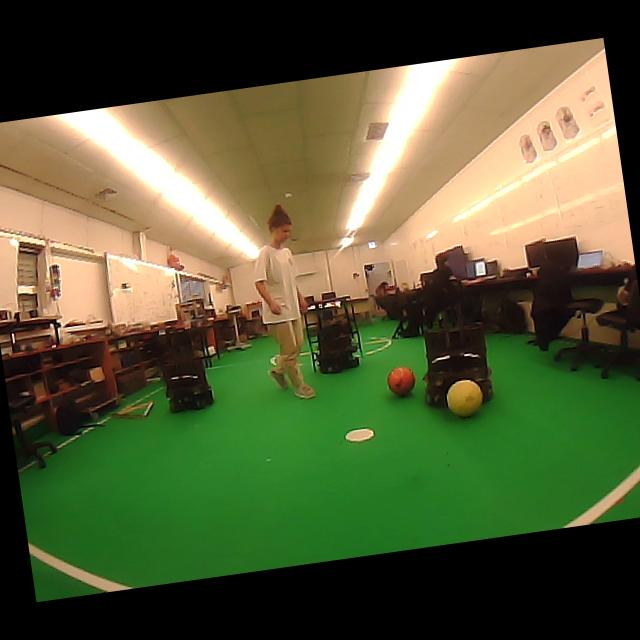ball: (448, 380, 483, 417), (387, 367, 415, 395)
robot: (424, 306, 493, 406), (160, 329, 214, 413), (305, 297, 362, 373)
